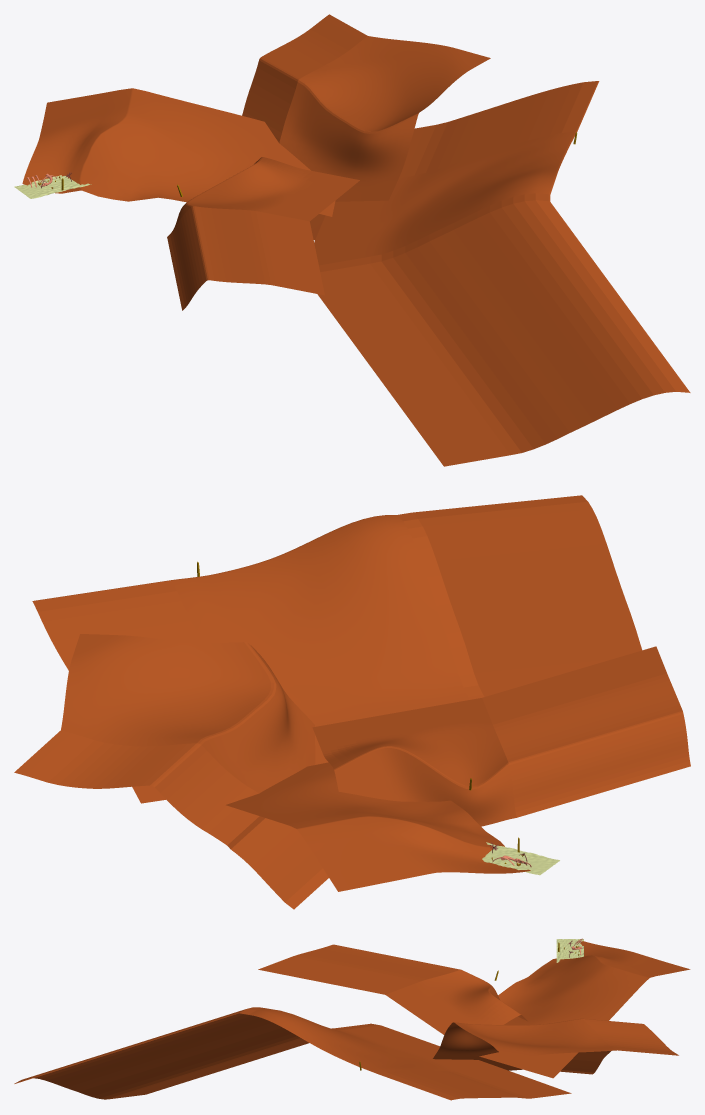
The model's file is FINALEXPORT.fbx.
The picture shows the model from 3 angles, top to bottom: view 1: azimuth 30°, elevation 25°; view 2: azimuth 150°, elevation 25°; view 3: azimuth 270°, elevation 25°; orthographic projection. The views are drawn at different scales.
Visible parts, largest first — view 1: Plane004, Plane005, Plane003, Plane002, Plane001; view 2: Plane004, Plane005, Plane002, Plane003, Plane001; view 3: Plane004, Plane002, Plane003, Plane005, Plane001.
Part boxes in pixels (x1,y1,x2,y2): Plane004: [314, 81, 690, 466]; Plane005: [242, 14, 490, 240]; Plane003: [22, 88, 335, 216]; Plane002: [167, 157, 359, 310]; Plane001: [14, 175, 91, 198]; Plane004: [32, 495, 641, 803]; Plane005: [14, 634, 328, 909]; Plane002: [312, 646, 690, 826]; Plane003: [226, 762, 530, 891]; Plane001: [482, 842, 559, 875]; Plane004: [14, 1007, 571, 1100]; Plane002: [258, 944, 527, 1034]; Plane003: [479, 941, 690, 1078]; Plane005: [433, 1018, 678, 1074]; Plane001: [556, 939, 583, 962].
Bounding box in the file's own units: 3557 × 1254 × 5182.
